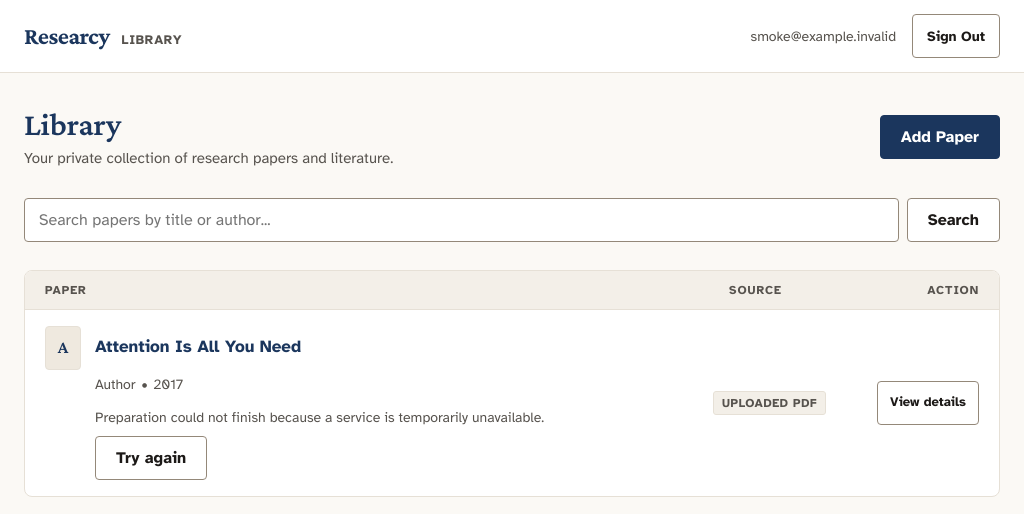
does not regress a newer canonical same-revision state when an older retry response arrives
The image size is (1024, 514).
Click the button "Try again": x=151, y=458 x1=95 y1=436 x2=207 y2=480
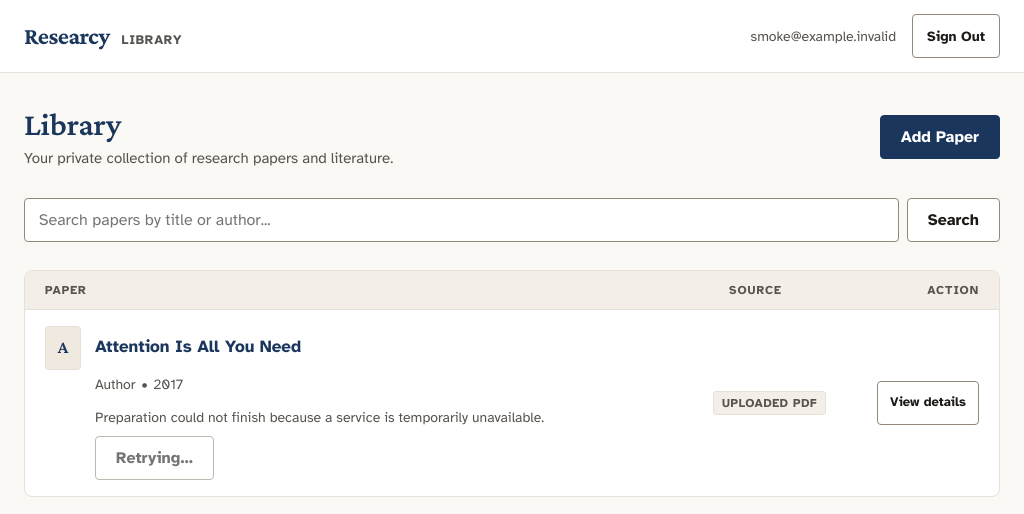
Submit the form, box x1=24 y1=198 x2=1000 y2=242
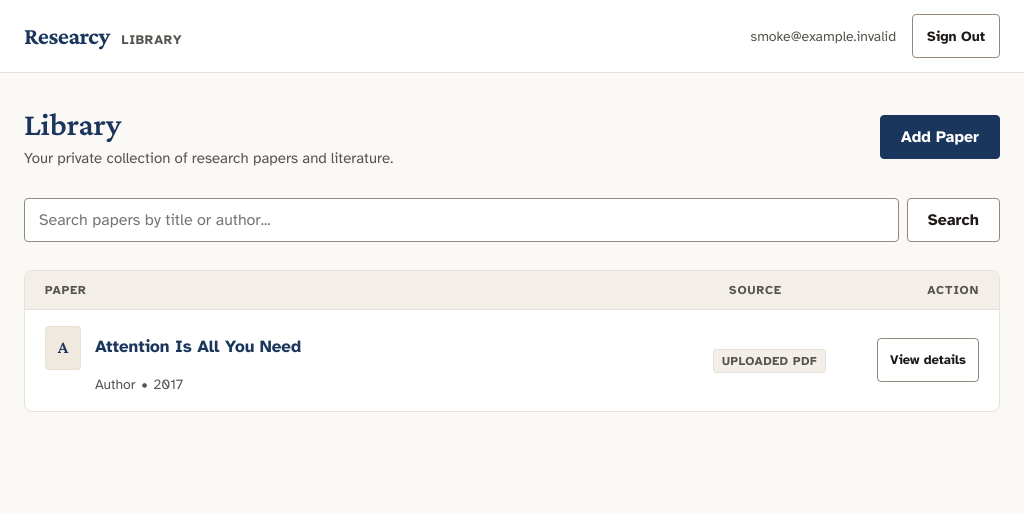
Check: no messages are shown
